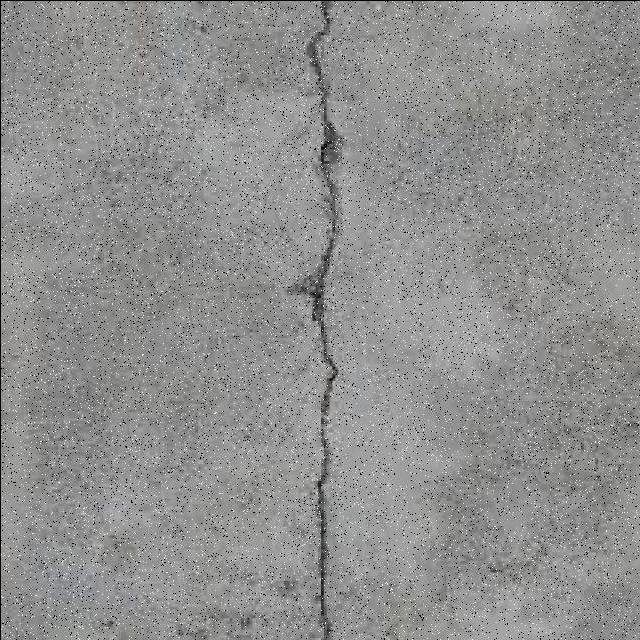Crack: (305, 2, 342, 637)
